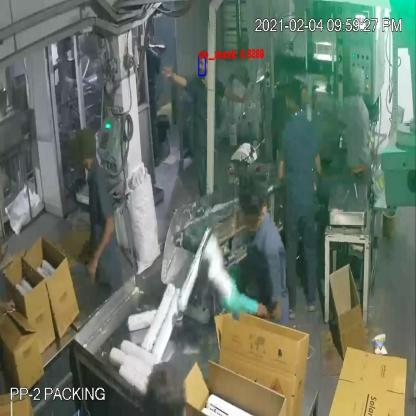glove: (216, 280, 290, 340)
no_glove: (78, 206, 117, 290), (160, 56, 195, 108), (221, 78, 252, 117), (0, 286, 18, 320)
